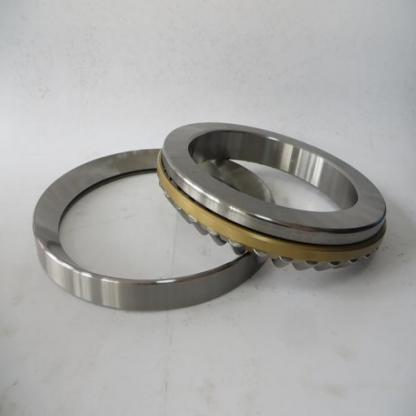FOD: (29, 117, 391, 311)
